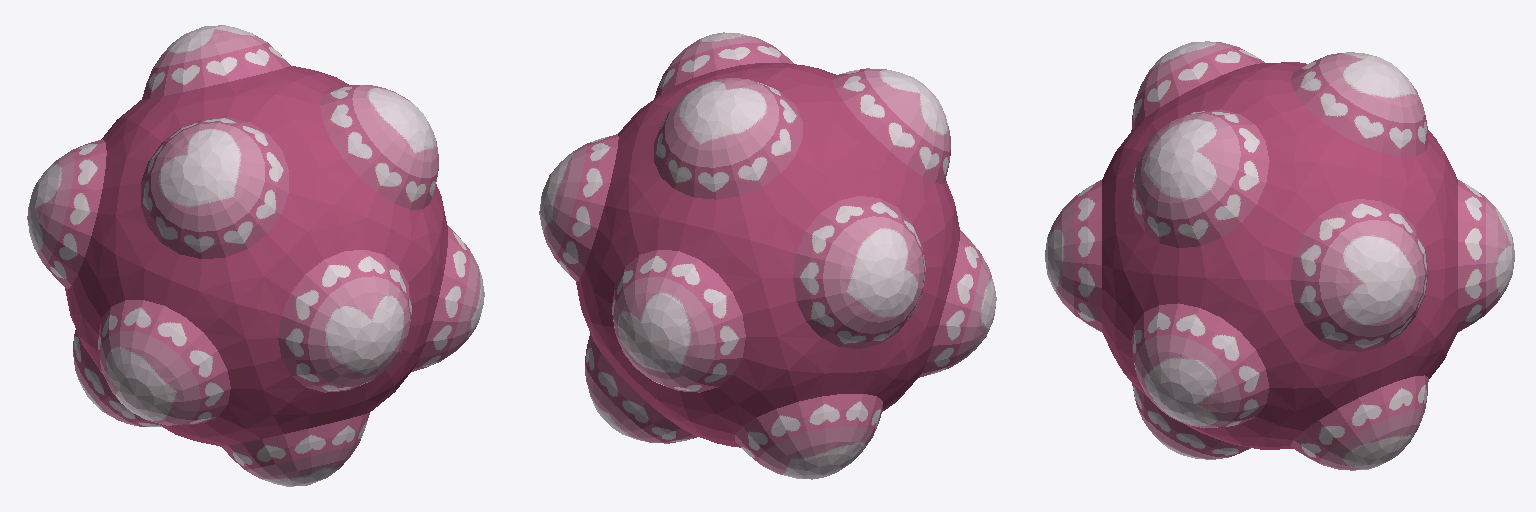
The picture shows the model from 3 angles: view 1: azimuth 30°, elevation 25°; view 2: azimuth 150°, elevation 25°; view 3: azimuth 270°, elevation 25°; orthographic projection.
Visible parts, largest first — view 1: core_16_0; view 2: core_16_0; view 3: core_16_0.
Part boxes in pixels (left/top/right/bottom): core_16_0: left=27, top=25, right=484, bottom=486; core_16_0: left=539, top=32, right=996, bottom=479; core_16_0: left=1045, top=41, right=1514, bottom=470.
Bounding box in the file's own units: 0.0478 × 0.0494 × 0.0537.
1 materials, 1 textured.